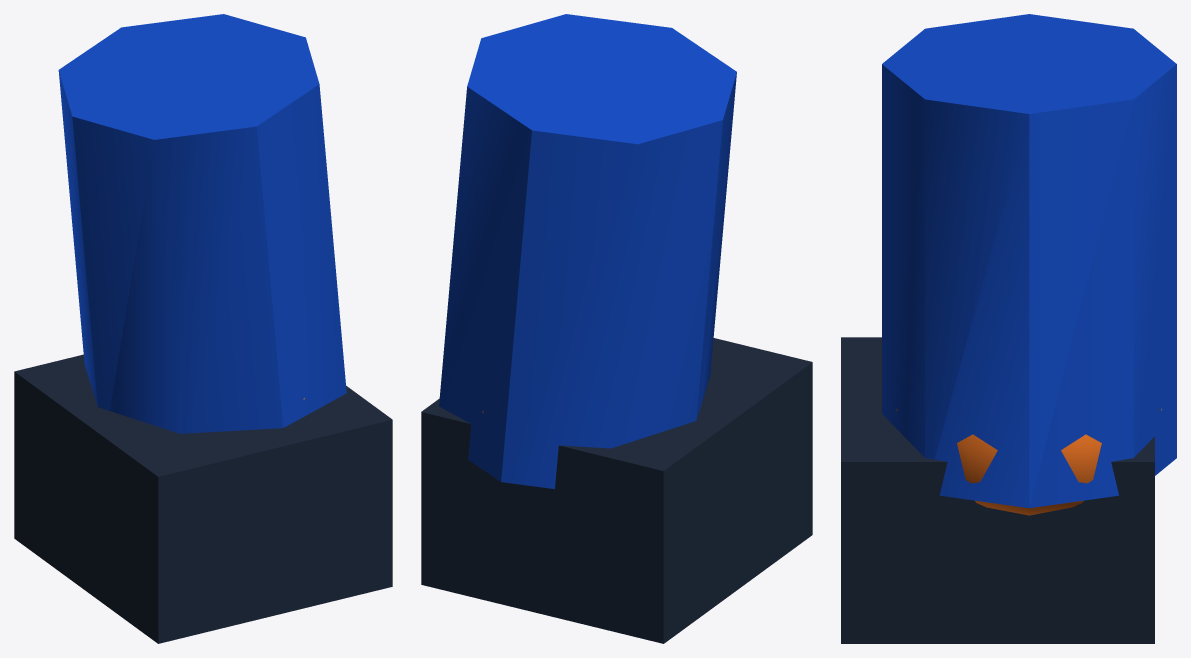
The model's file is RightArm.glb.
3 views of the same model, side by side, from view 1: azimuth 30°, elevation 25°; view 2: azimuth 150°, elevation 25°; view 3: azimuth 270°, elevation 25° (orthographic). The views are drawn at different scales.
Visible parts, largest first — view 1: upper, hand; view 2: upper, hand; view 3: upper, hand, elbow.
Part boxes in pixels (x1=…): upper: x1=58, y1=14, x2=346, y2=433; hand: x1=14, y1=354, x2=392, y2=643; upper: x1=439, y1=14, x2=736, y2=488; hand: x1=421, y1=338, x2=812, y2=643; upper: x1=882, y1=14, x2=1176, y2=508; hand: x1=841, y1=337, x2=1154, y2=643; elbow: x1=896, y1=408, x2=1161, y2=515.
Bounding box in the file's own units: 1.06 × 1.86 × 1.07.
